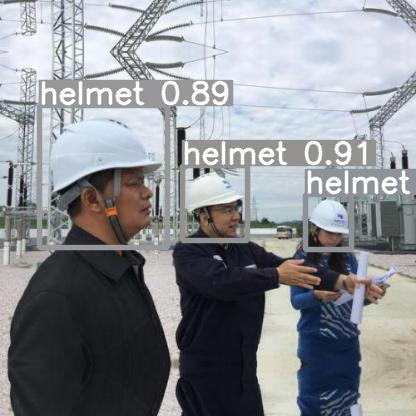helmet: (39, 105, 167, 247), (182, 165, 247, 240), (305, 194, 351, 249)
